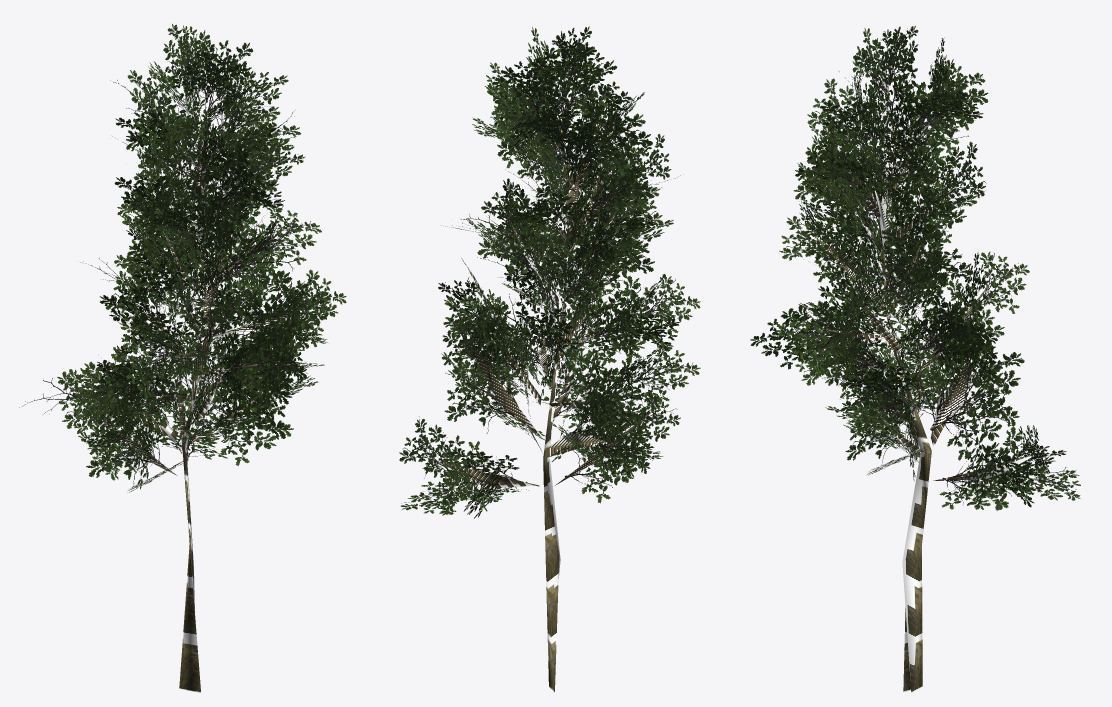
Rendered from OakTree6_Test_4.fbx.
3 views of the same model, side by side, from view 1: azimuth 30°, elevation 25°; view 2: azimuth 150°, elevation 25°; view 3: azimuth 270°, elevation 25° (orthographic). The views are drawn at different scales.
Visible parts, largest first — view 1: TreeOak06; view 2: TreeOak06; view 3: TreeOak06.
Boxes of the visible parts, x1,y1,x2,y2 form: TreeOak06: (19,24,346,692); TreeOak06: (399,26,700,692); TreeOak06: (750,25,1080,692).
Size of the model in its own units: 1276 by 2878 by 1409.
